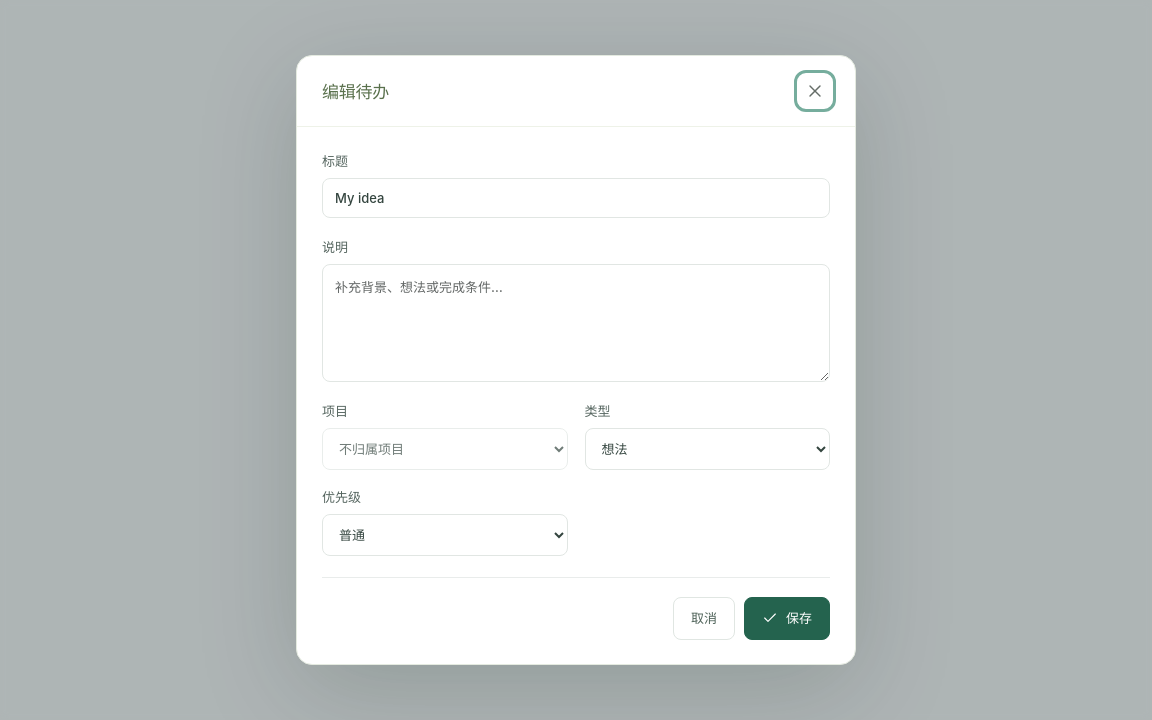
Test: preserves input and surfaces a conflict without closing the editor
The width and height of the screenshot is (1152, 720).
Replace the text in the field labelled "标题" with "My revised idea" at (576, 198), box [322,178,830,218]
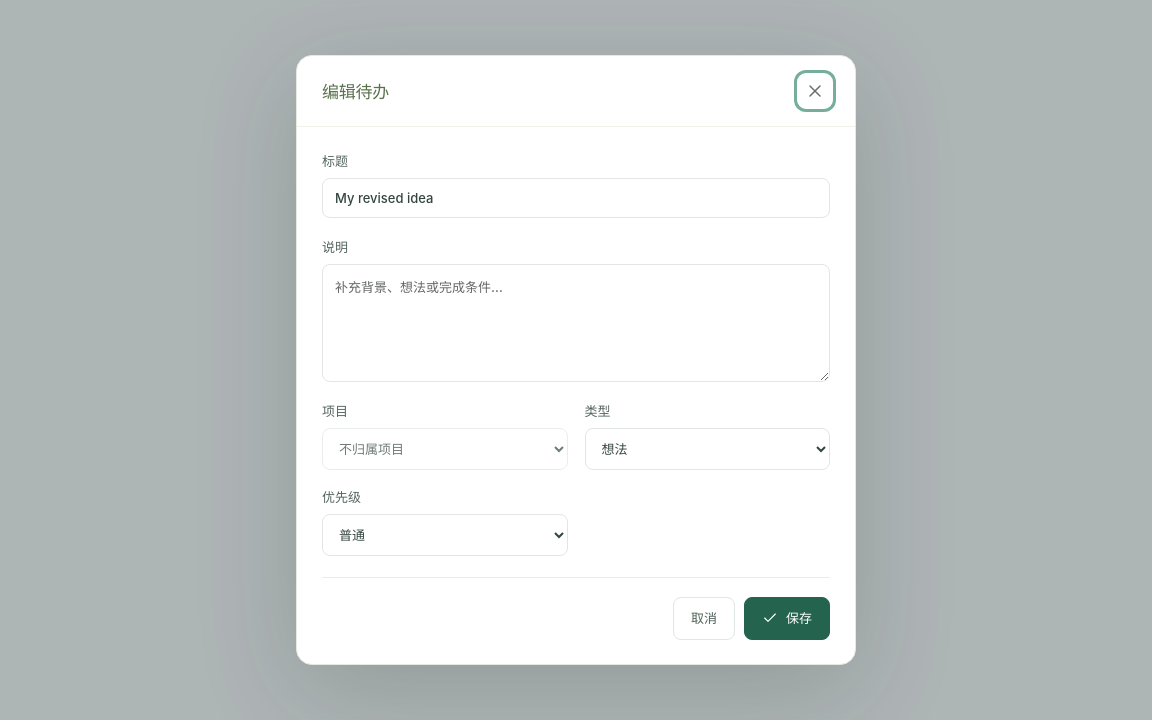
Click the button "保存".
click(787, 618)  # box [744,596,830,640]
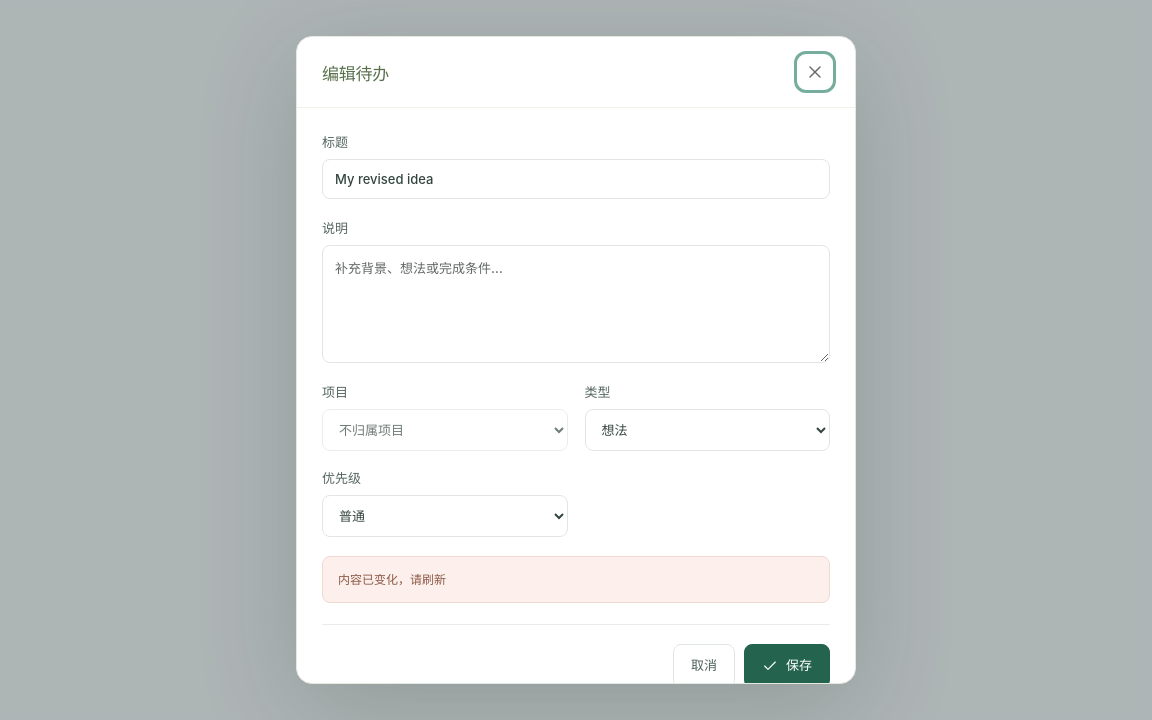
Expected: the text "内容已变化，请刷新" is shown, [322,556,830,603]
